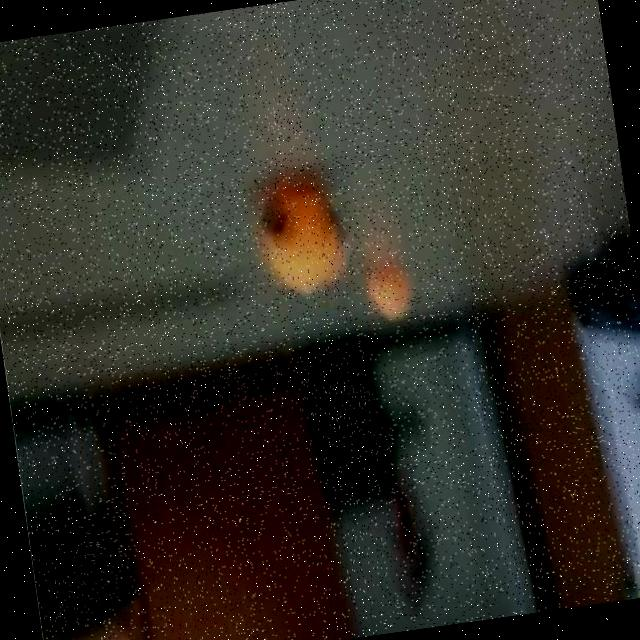ping-pong-ball: (258, 173, 350, 299), (361, 258, 419, 324)
